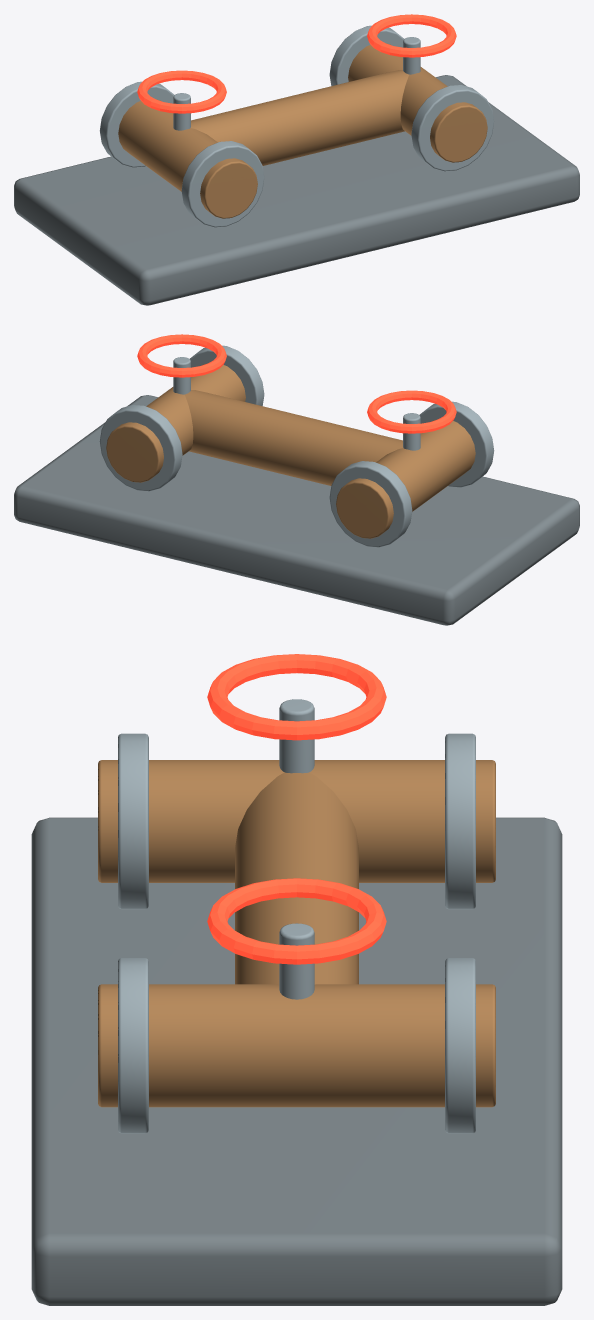
Rendered from 26_pipe_junction.glb.
3 views of the same model, one above another, from view 1: azimuth 30°, elevation 25°; view 2: azimuth 150°, elevation 25°; view 3: azimuth 270°, elevation 25° (orthographic). The views are drawn at different scales.
Visible parts, largest first — view 1: Pipe footing, Pipe, Valve stem, Valve wheel; view 2: Pipe footing, Pipe, Valve stem, Valve wheel; view 3: Pipe footing, Pipe, Valve stem, Valve wheel.
Part boxes in pixels (x1,y1,x2,y2): Pipe footing: (14,75,579,305); Pipe: (118,43,487,218); Valve stem: (99,25,494,227); Valve wheel: (137,14,456,113); Pipe footing: (14,395,579,625); Pipe: (106,363,475,538); Valve stem: (99,345,494,547); Valve wheel: (137,334,456,433); Pipe footing: (31,817,562,1305); Pipe: (98,760,495,1107); Valve stem: (118,699,475,1133); Valve wheel: (207,654,386,964).
Size of the model in its own units: 2.3 by 0.743 by 1.2.
